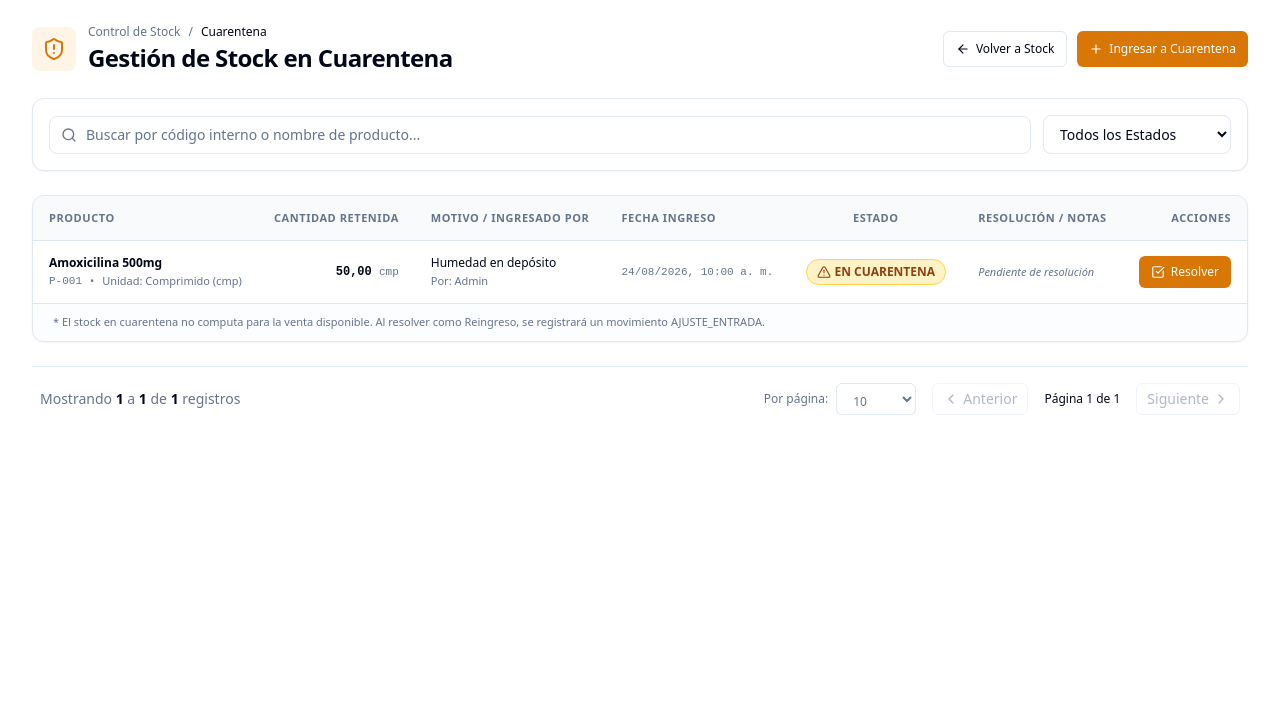
Test: StockQuarantinePage Integration › opens resolve modal when clicking Resolver button in table row
Click the button with test id "quarantine-resolve-btn-q-1".
click(1185, 272)  # box [1139,256,1231,288]
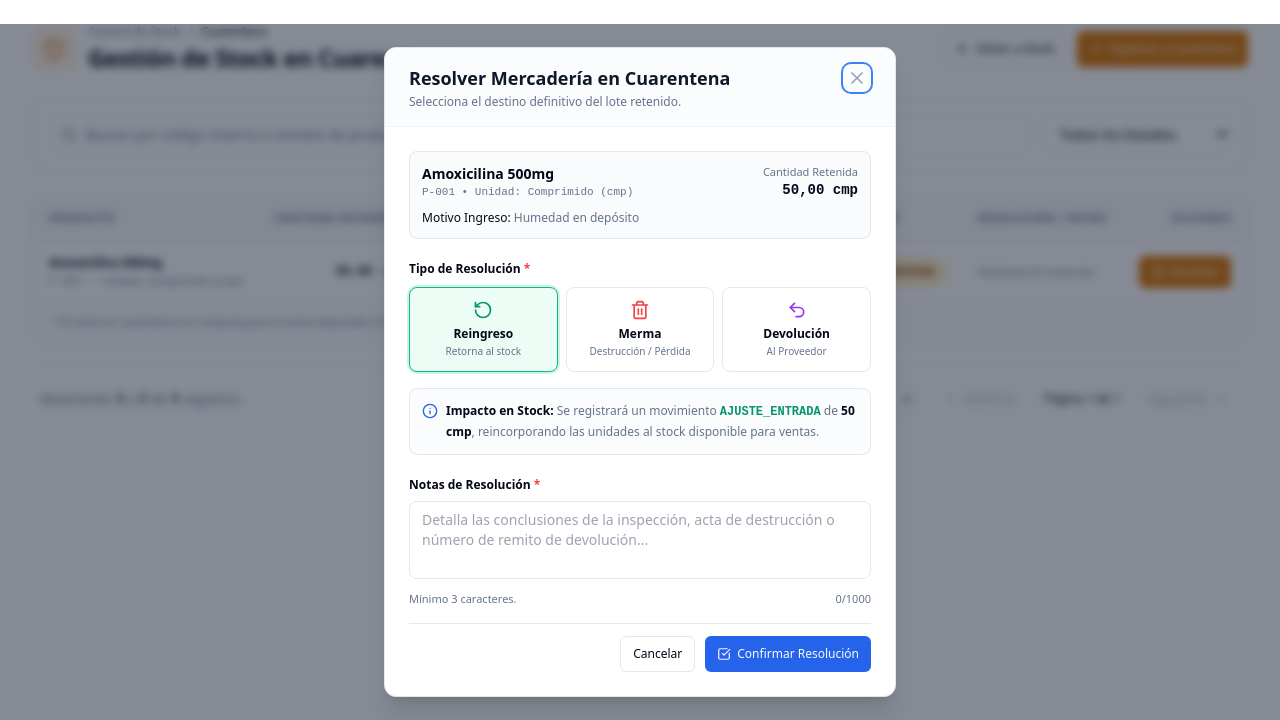
Expected: the form with test id "quarantine-resolve-form" is shown, [409,151,871,672]
